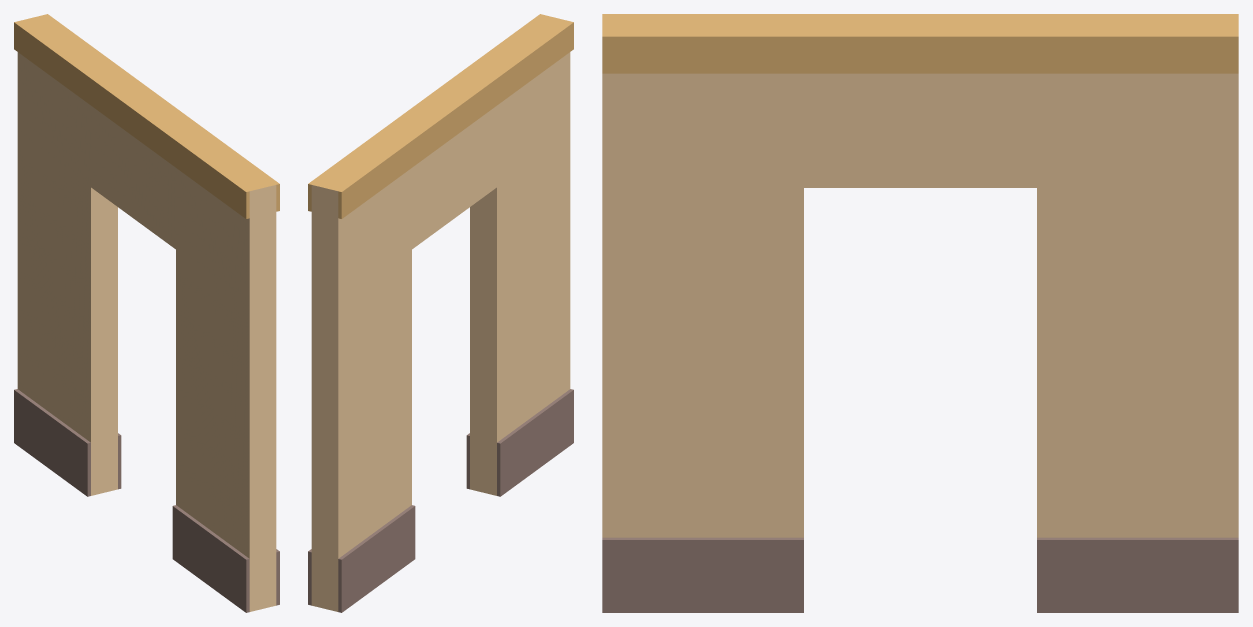
Rendered from Wall02.fbx.
3 views of the same model, side by side, from view 1: azimuth 30°, elevation 25°; view 2: azimuth 150°, elevation 25°; view 3: azimuth 270°, elevation 25° (orthographic). The views are drawn at different scales.
Parts seen in each view (by area): view 1: Wall02; view 2: Wall02; view 3: Wall02.
Part boxes in pixels (<box>): Wall02: <box>14,14,279,612</box>; Wall02: <box>308,14,573,612</box>; Wall02: <box>602,14,1238,612</box>.
Bounding box in the file's own units: 0.2519 × 3 × 3.
